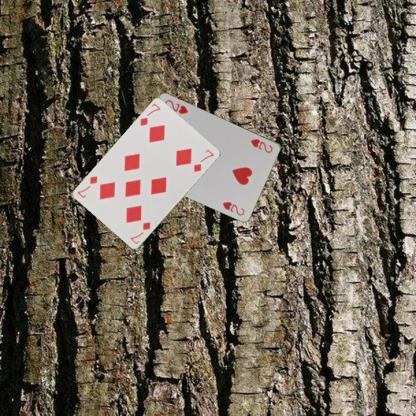2h: (248, 136, 274, 154)
7d: (137, 102, 162, 128), (128, 219, 152, 245)
